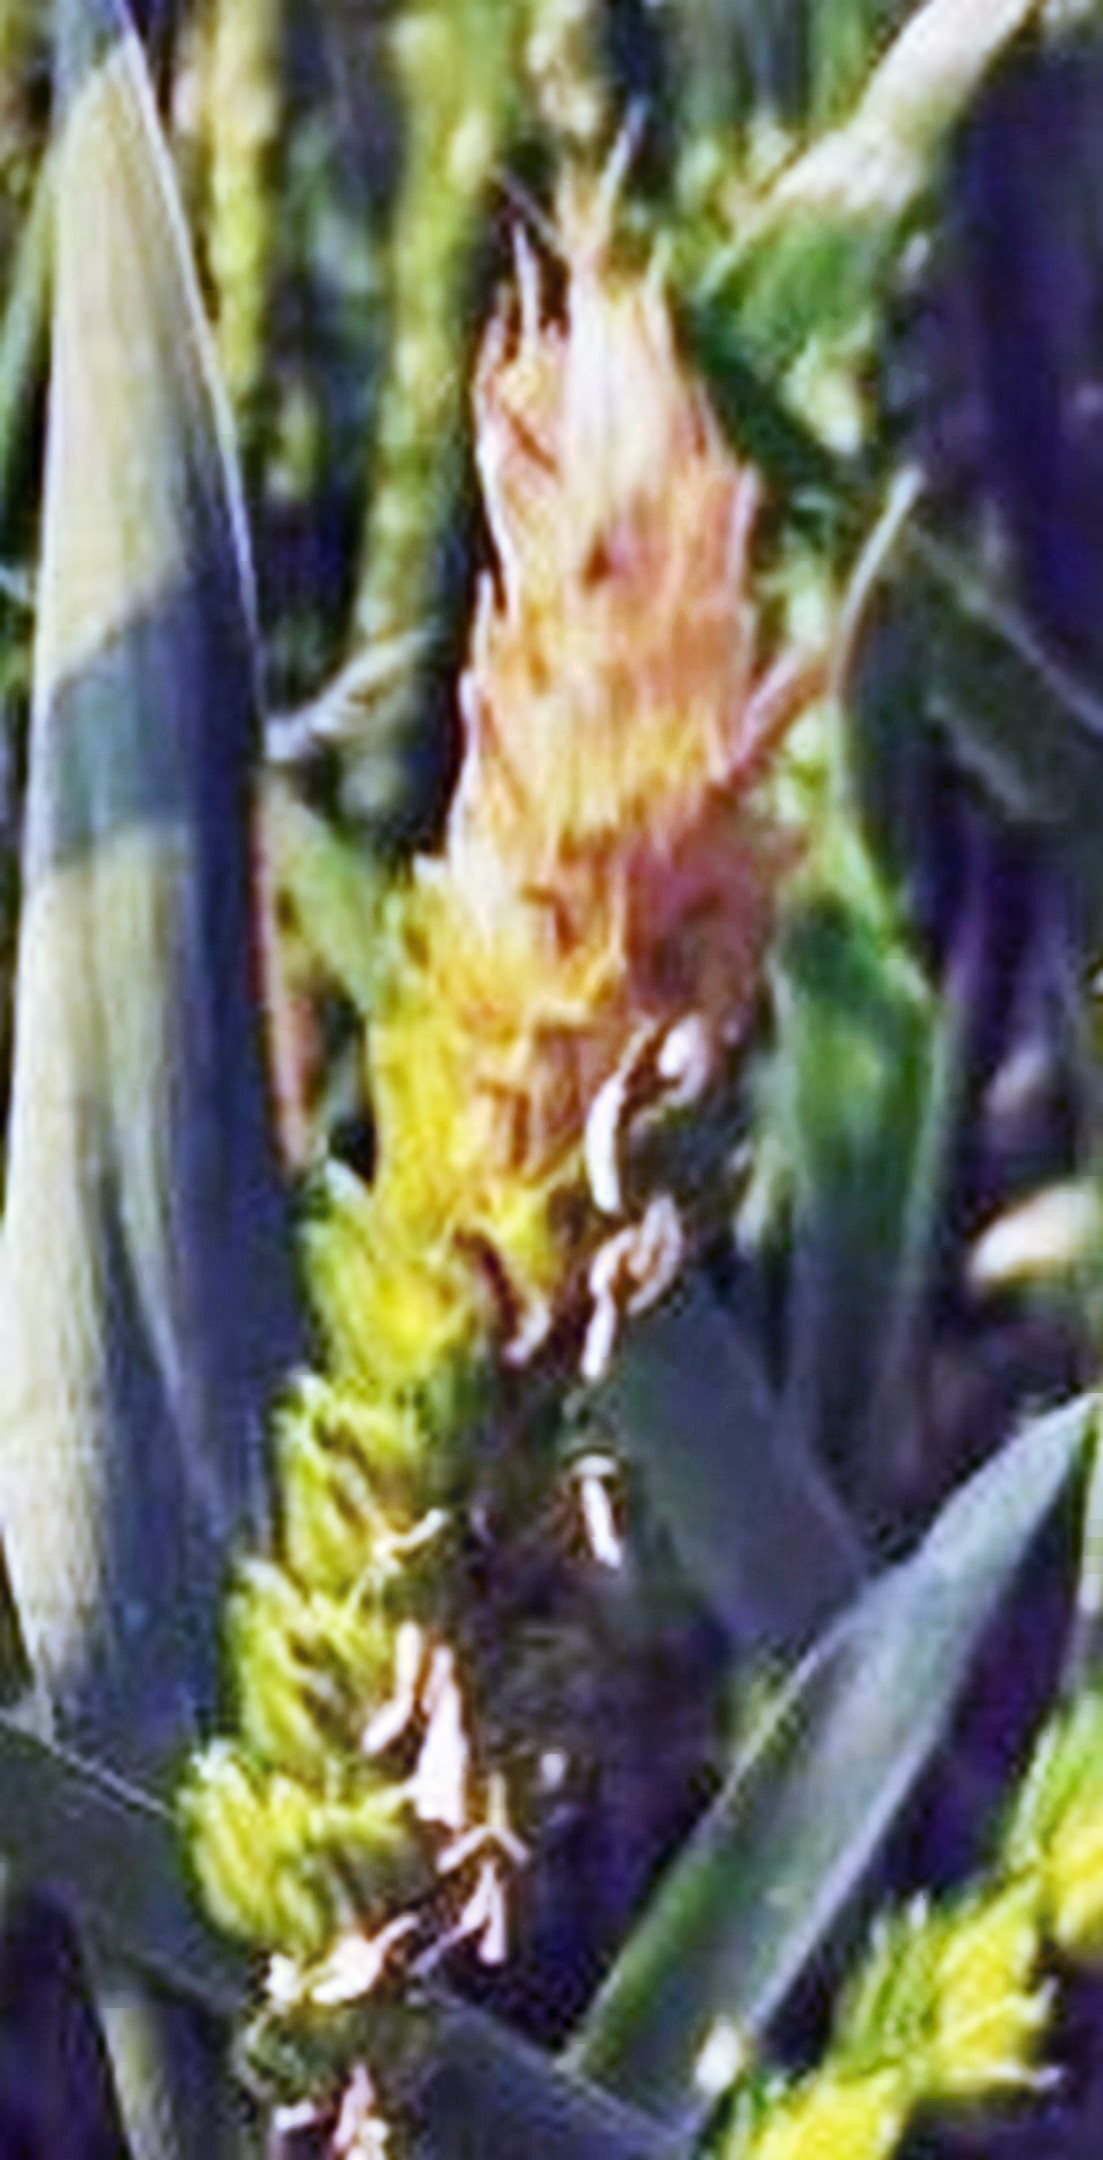Wheat scab: (241, 262, 813, 1915)
